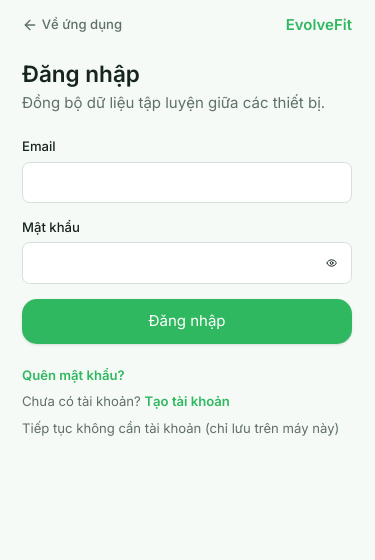
it: Account namespaces and two-way sync (P2) › explains blocked cookies instead of pretending the sign-in worked
Type "phuc@example.com" into the field labelled "Email" at (187, 182), box [22, 162, 352, 203]
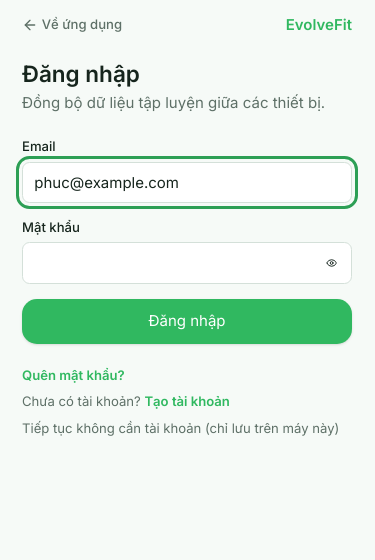
Type "secret123" into the password field labelled "Mật khẩu" at (187, 263), box [22, 242, 352, 284]
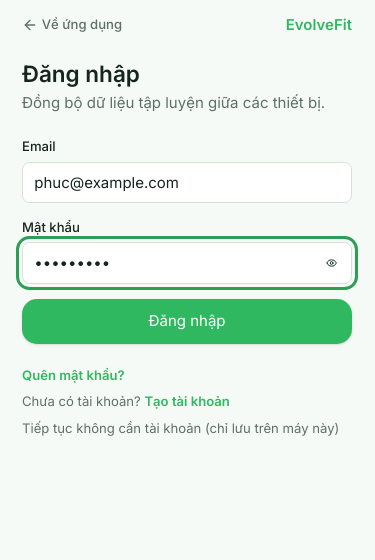
Click the button "Đăng nhập" at (187, 321), box [22, 298, 352, 344]
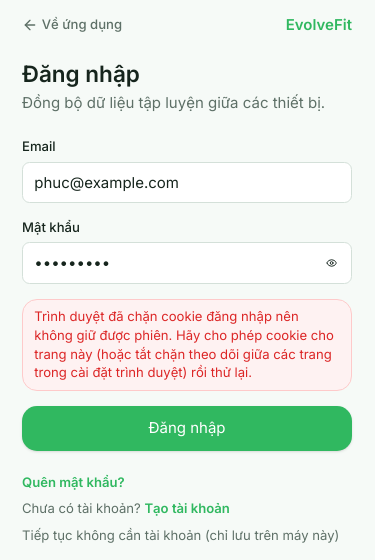
Expected: the message shows "chặn cookie", [34, 308, 334, 380]
